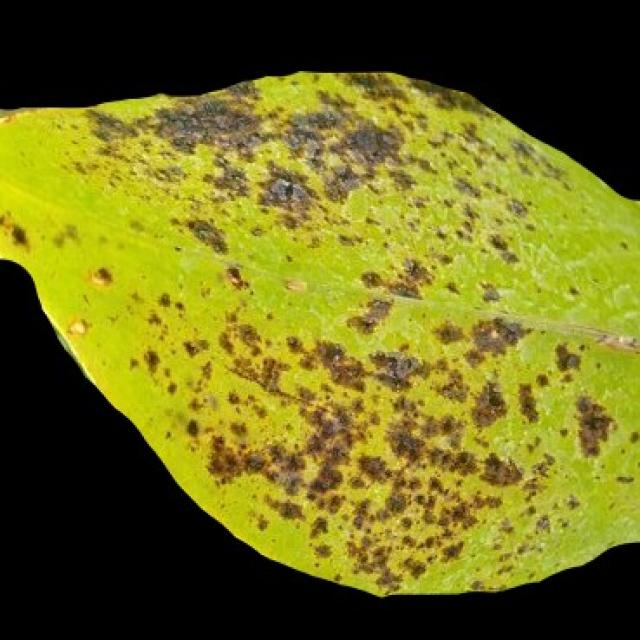mite: (255, 168, 312, 213), (366, 345, 421, 390), (467, 378, 510, 430), (380, 420, 427, 467), (182, 213, 231, 257), (475, 447, 524, 491), (512, 378, 541, 427), (88, 262, 116, 290), (624, 425, 638, 447)
spots: (0, 68, 638, 598)
